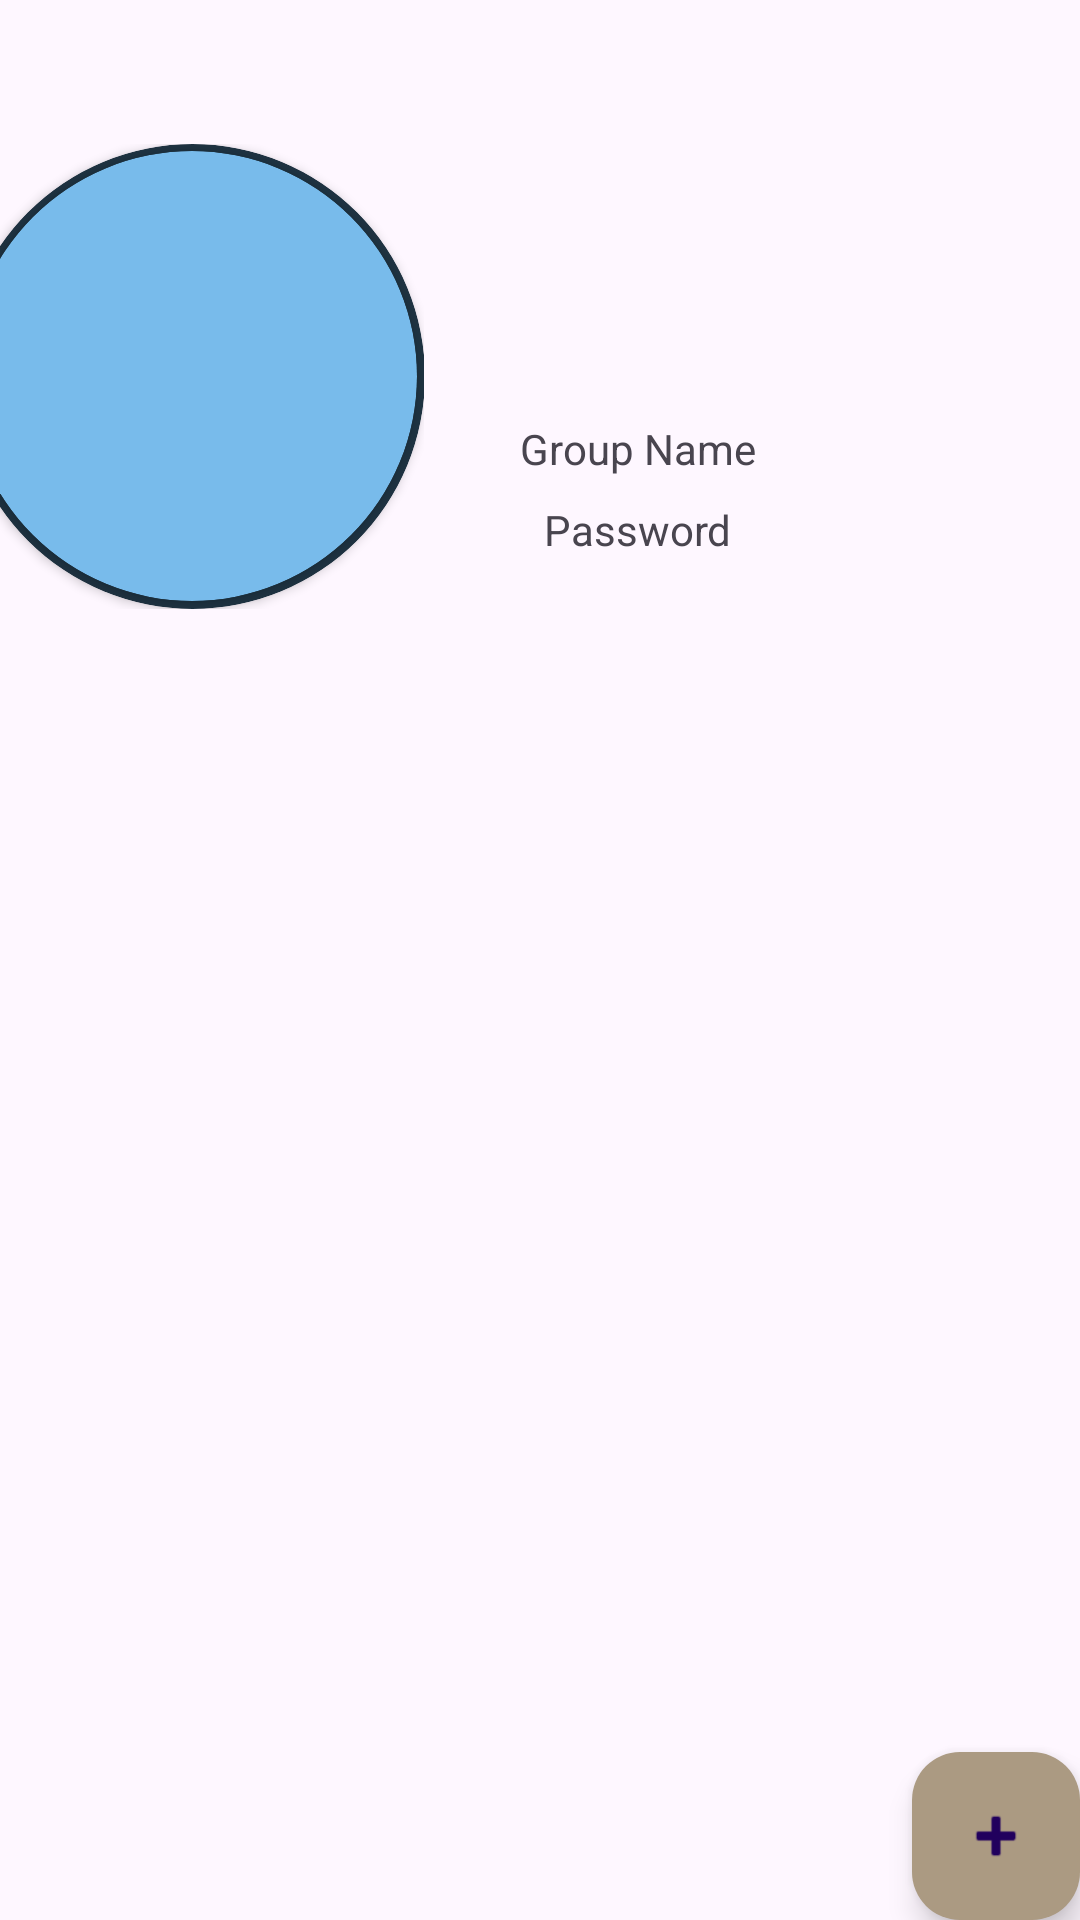

Screen size 1080 x 1920. Icon name, then its box in pixels as (x1, y1, x2, y2):
Add Members: (912, 1752, 1080, 1920)
